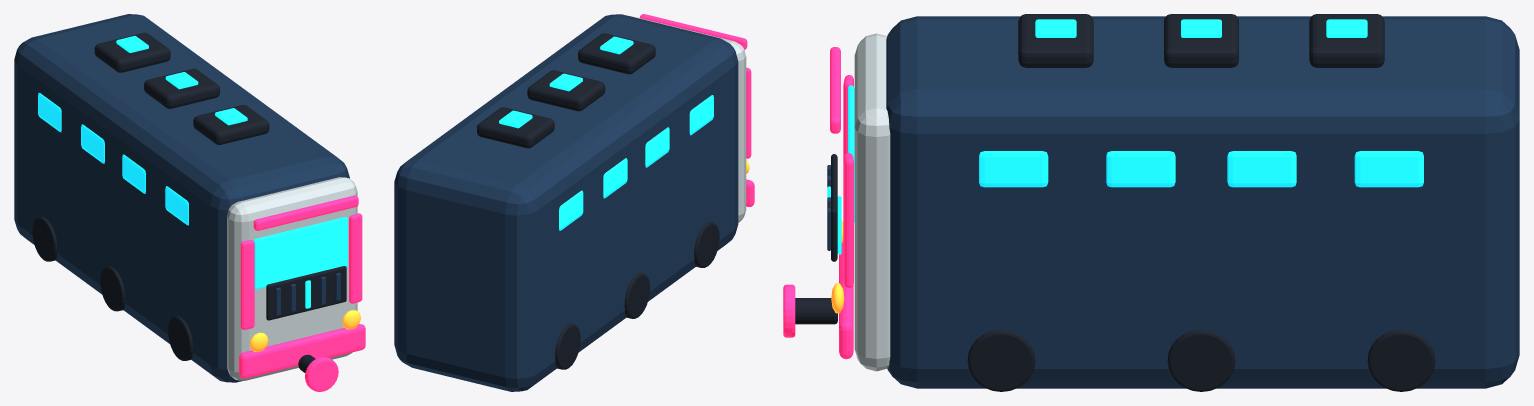
File: train-premium.glb
3 views of the same model, side by side, from view 1: azimuth 30°, elevation 25°; view 2: azimuth 150°, elevation 25°; view 3: azimuth 270°, elevation 25° (orthographic). The views are drawn at different scales.
Visible parts, largest first — view 1: TrainHull, TrainNose, TrainWindshield, TrainBumper, TrainDetail_Grille, TrainRoofVent_1.2, TrainRoofVent_-1.2, TrainRoofVent_0, TrainDetail_Cheek_L, TrainDetail_Brow, TrainDetail_Cheek_R, TrainDetail_CouplerHead (+10 smaller); view 2: TrainHull, TrainRoofVent_0, TrainRoofVent_-1.2, TrainRoofVent_1.2, TrainNose, TrainDetail_Wheel_L_1.65, TrainDetail_Wheel_L_-1.65, TrainDetail_Wheel_L_0, TrainDetail_Brow, TrainWindow_0.5, TrainWindow_1.55, TrainWindow_-0.5 (+5 smaller); view 3: TrainHull, TrainNose, TrainDetail_Wheel_R_1.65, TrainDetail_Wheel_R_0, TrainDetail_Wheel_R_-1.65, TrainRoofVent_1.2, TrainRoofVent_-1.2, TrainRoofVent_0, TrainWindow_0.5, TrainWindow_-0.5, TrainWindow_1.55, TrainWindow_-1.55 (+9 smaller).
Boxes of the visible parts, x1=… form: TrainHull: x1=14, y1=14, x2=349, y2=382; TrainNose: x1=227, y1=177, x2=357, y2=380; TrainWindshield: x1=253, y1=217, x2=347, y2=289; TrainBumper: x1=239, y1=324, x2=365, y2=378; TrainDetail_Grille: x1=266, y1=266, x2=346, y2=320; TrainRoofVent_1.2: x1=94, y1=32, x2=170, y2=72; TrainRoofVent_-1.2: x1=193, y1=105, x2=269, y2=144; TrainRoofVent_0: x1=144, y1=68, x2=219, y2=108; TrainDetail_Cheek_L: x1=240, y1=240, x2=254, y2=329; TrainDetail_Brow: x1=253, y1=195, x2=358, y2=230; TrainDetail_Cheek_R: x1=349, y1=213, x2=362, y2=303; TrainDetail_CouplerHead: x1=305, y1=357, x2=338, y2=391; TrainHull: x1=394, y1=14, x2=738, y2=391; TrainRoofVent_0: x1=527, y1=70, x2=605, y2=111; TrainRoofVent_-1.2: x1=578, y1=33, x2=655, y2=74; TrainRoofVent_1.2: x1=477, y1=107, x2=554, y2=148; TrainNose: x1=630, y1=16, x2=746, y2=222; TrainDetail_Wheel_L_1.65: x1=555, y1=323, x2=580, y2=369; TrainDetail_Wheel_L_-1.65: x1=694, y1=222, x2=719, y2=267; TrainDetail_Wheel_L_0: x1=624, y1=273, x2=650, y2=318; TrainDetail_Brow: x1=639, y1=14, x2=747, y2=49; TrainWindow_0.5: x1=603, y1=158, x2=627, y2=198; TrainWindow_1.55: x1=559, y1=190, x2=583, y2=230; TrainWindow_-0.5: x1=645, y1=127, x2=669, y2=167; TrainHull: x1=886, y1=16, x2=1519, y2=388; TrainNose: x1=854, y1=33, x2=890, y2=371; TrainDetail_Wheel_R_1.65: x1=1367, y1=329, x2=1435, y2=391; TrainDetail_Wheel_R_0: x1=1167, y1=329, x2=1235, y2=391; TrainDetail_Wheel_R_-1.65: x1=967, y1=329, x2=1035, y2=391; TrainRoofVent_1.2: x1=1309, y1=14, x2=1384, y2=67; TrainRoofVent_-1.2: x1=1018, y1=14, x2=1093, y2=67; TrainRoofVent_0: x1=1164, y1=14, x2=1238, y2=67; TrainWindow_0.5: x1=1227, y1=151, x2=1296, y2=187; TrainWindow_-0.5: x1=1106, y1=151, x2=1175, y2=187; TrainWindow_1.55: x1=1354, y1=151, x2=1423, y2=187; TrainWindow_-1.55: x1=979, y1=151, x2=1048, y2=187.
Bounding box in the file's own units: 2 × 2.96 × 6.08.
